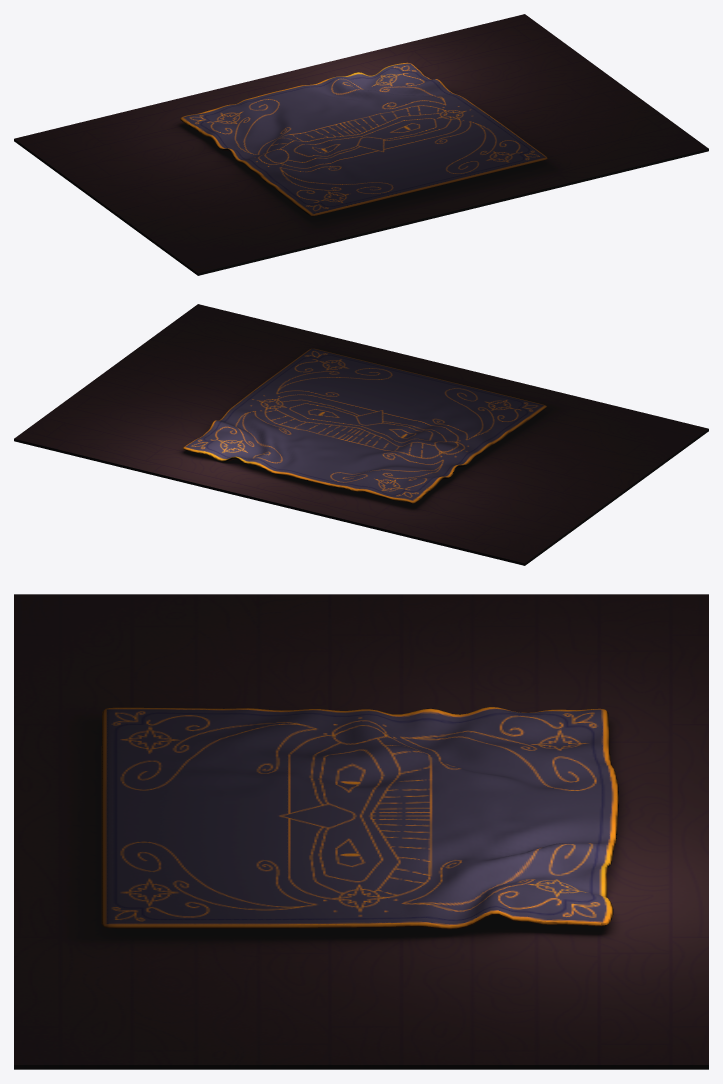
File: CardTable.fbx
3 renders of one model, top to bottom at view 1: azimuth 30°, elevation 25°; view 2: azimuth 150°, elevation 25°; view 3: azimuth 270°, elevation 25°, orthographic. The views are drawn at different scales.
Parts seen in each view (by area): view 1: wood-01; view 2: wood-01; view 3: wood-01.
Part boxes in pixels (bbox=[...]): wood-01: bbox=[14, 14, 708, 275]; wood-01: bbox=[14, 304, 708, 565]; wood-01: bbox=[14, 594, 708, 1069].
Bounding box in the file's own units: 214 × 5.82 × 133.
